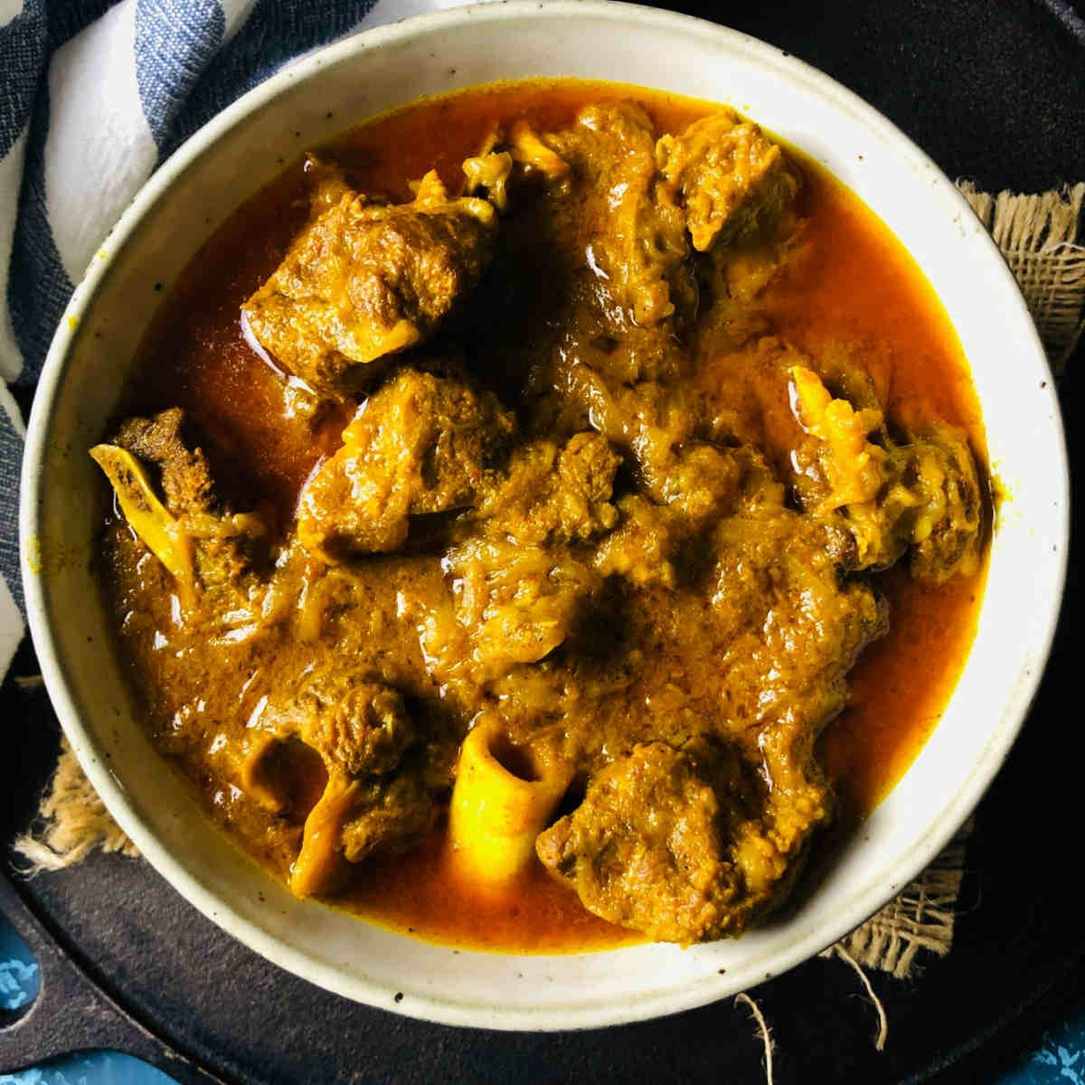MuttonCurry: (98, 81, 985, 934)
